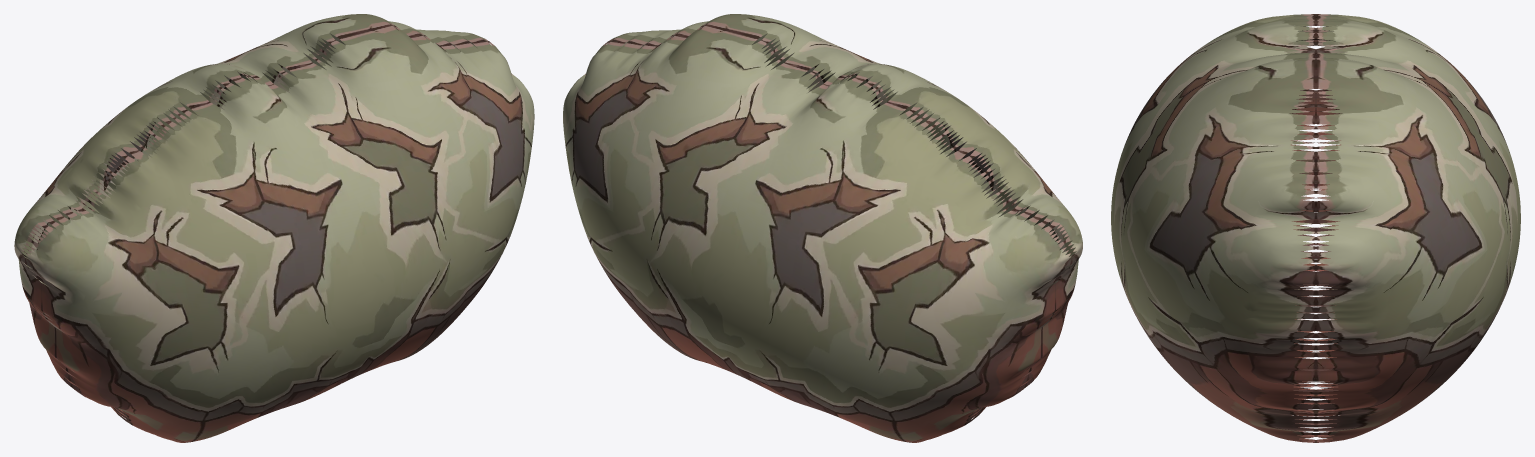
The model's file is cliff_section.glb.
3 renders of one model, left to right at view 1: azimuth 30°, elevation 25°; view 2: azimuth 150°, elevation 25°; view 3: azimuth 270°, elevation 25°, orthographic. The views are drawn at different scales.
Parts seen in each view (by area): view 1: cliff_section; view 2: cliff_section; view 3: cliff_section.
Boxes of the visible parts, x1,y1,x2,y2 form: cliff_section: [14, 14, 534, 442]; cliff_section: [563, 14, 1082, 442]; cliff_section: [1111, 14, 1520, 442].
Bounding box in the file's own units: 0.9881 × 0.6713 × 0.6272.
Materials: 1 (1 with a texture image).
